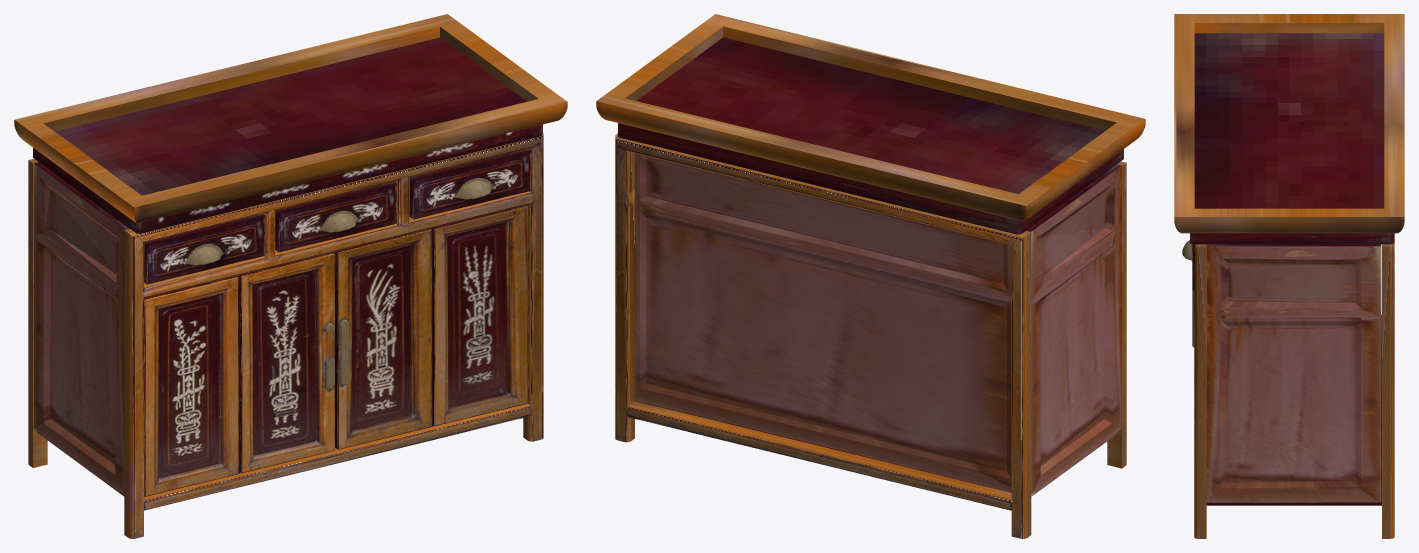
The model's file is artisanal_sideboard.glb.
The picture shows the model from 3 angles, left to right: view 1: azimuth 30°, elevation 25°; view 2: azimuth 150°, elevation 25°; view 3: azimuth 270°, elevation 25°; orthographic projection. The views are drawn at different scales.
Visible parts, largest first — view 1: haut_7, corps_8, door3_12, door4_3, door2_13, door1_4, mont_6, tir01_11, tir02_5, tir03_10, behind_9; view 2: corps_8, haut_7, behind_9, mont_6; view 3: haut_7, corps_8, behind_9, mont_6, base_16, tir01_11.
Part boxes in pixels (bbox=[...]): haut_7: bbox=[14, 14, 567, 223]; corps_8: bbox=[34, 132, 543, 538]; door3_12: bbox=[334, 229, 431, 449]; door4_3: bbox=[432, 205, 528, 425]; door2_13: bbox=[239, 252, 334, 473]; door1_4: bbox=[144, 276, 238, 496]; mont_6: bbox=[33, 124, 542, 233]; tir01_11: bbox=[409, 149, 531, 219]; tir02_5: bbox=[275, 181, 396, 252]; tir03_10: bbox=[144, 214, 265, 284]; behind_9: bbox=[28, 158, 47, 467]; corps_8: bbox=[635, 153, 1126, 496]; haut_7: bbox=[596, 14, 1145, 221]; behind_9: bbox=[615, 133, 1031, 538]; mont_6: bbox=[618, 123, 1123, 234]; haut_7: bbox=[1174, 14, 1404, 233]; corps_8: bbox=[1194, 244, 1381, 538]; behind_9: bbox=[1382, 243, 1394, 538]; mont_6: bbox=[1190, 233, 1394, 244]; base_16: bbox=[1206, 314, 1381, 505]; tir01_11: bbox=[1182, 240, 1194, 290].
Bounding box in the file's own units: 1.14 × 0.8617 × 0.5494.
29 materials, 28 textured.
